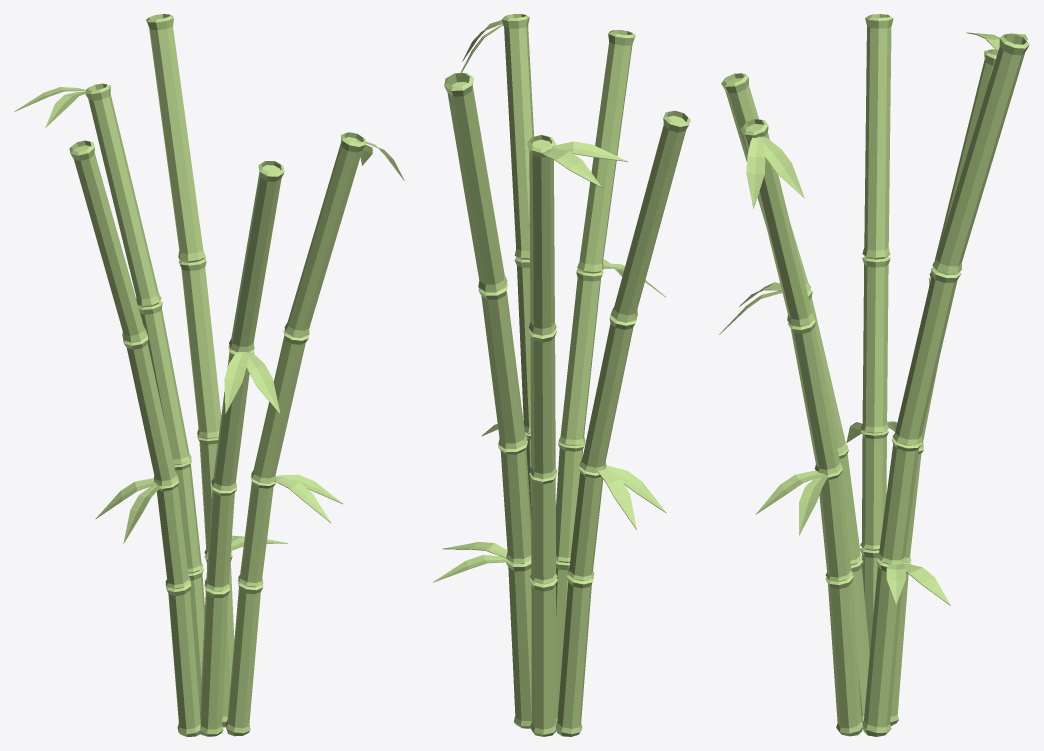
The model's file is scene_T859PjB6YA.glb.
3 renders of one model, left to right at view 1: azimuth 30°, elevation 25°; view 2: azimuth 150°, elevation 25°; view 3: azimuth 270°, elevation 25°, orthographic. The views are drawn at different scales.
Parts seen in each view (by area): view 1: Bamboo_Circle; view 2: Bamboo_Circle; view 3: Bamboo_Circle.
Boxes of the visible parts, left/top/right/bottom form: Bamboo_Circle: left=14, top=14, right=404, bottom=736; Bamboo_Circle: left=433, top=14, right=690, bottom=736; Bamboo_Circle: left=719, top=14, right=1029, bottom=736.
Size of the model in its own units: 4.72 by 10.85 by 4.39.
